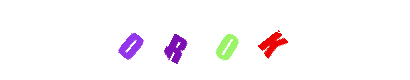0: (187, 0, 267, 80)
K: (232, 0, 312, 80)
O: (113, 0, 193, 80)
R: (165, 0, 245, 80)
